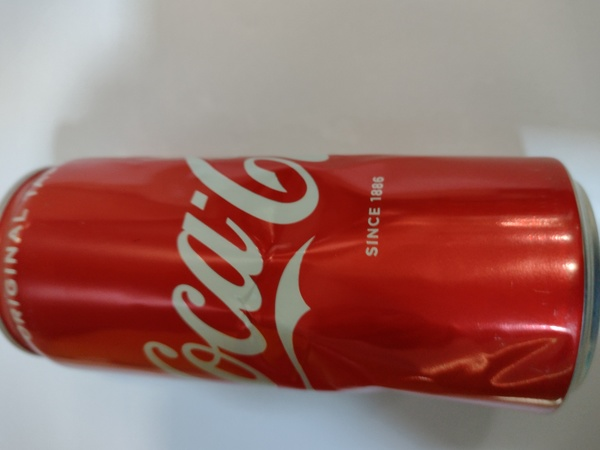can: (4, 154, 599, 417)
